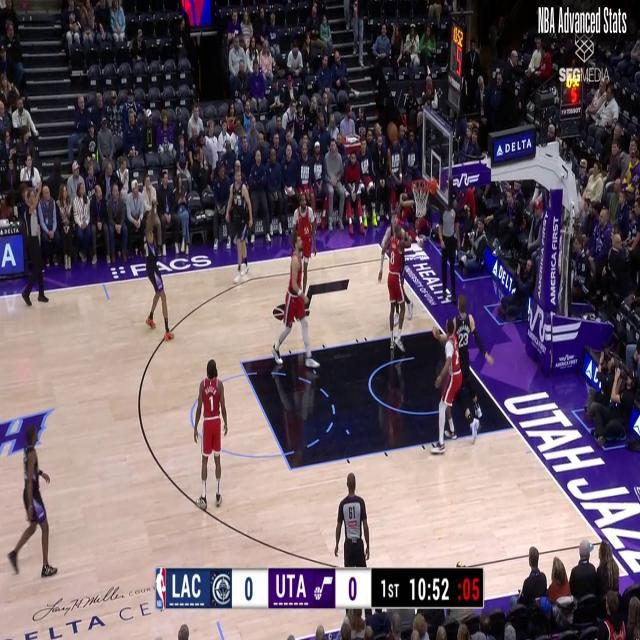ball: (388, 122, 398, 143)
judge: (334, 477, 368, 573), (434, 186, 460, 308)
player: (438, 297, 494, 433), (8, 423, 54, 578), (273, 237, 318, 372), (193, 363, 227, 510), (378, 210, 411, 355), (430, 317, 459, 454), (142, 216, 172, 336), (291, 188, 317, 313), (225, 169, 251, 280), (23, 178, 44, 306)
